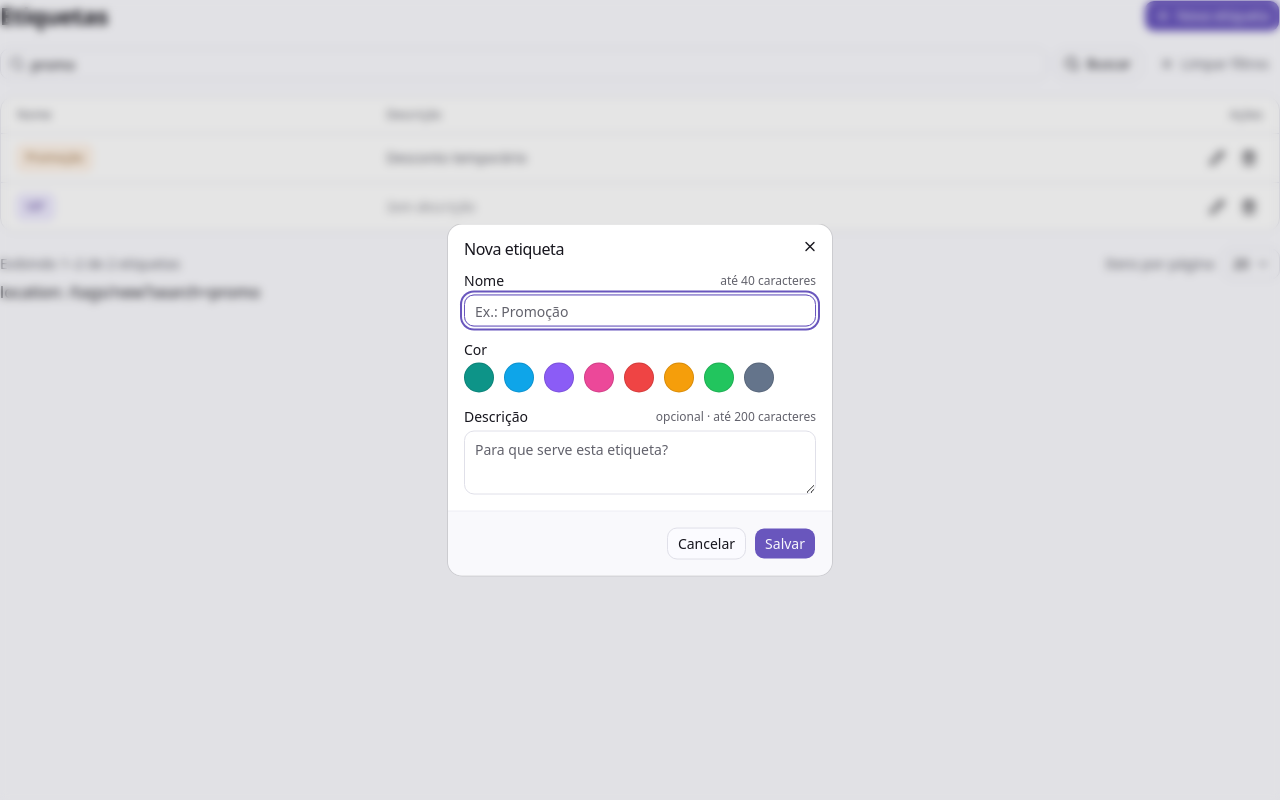
Scenario: TagFormPage › closing and browser history › closes a deep-linked dialog to /tags, leaving behind the search its address carried
Expected: the heading "Nova etiqueta" is shown, x1=464 y1=238 x2=564 y2=260
Click the button "Cancelar" at (706, 544), box x1=667 y1=528 x2=746 y2=560
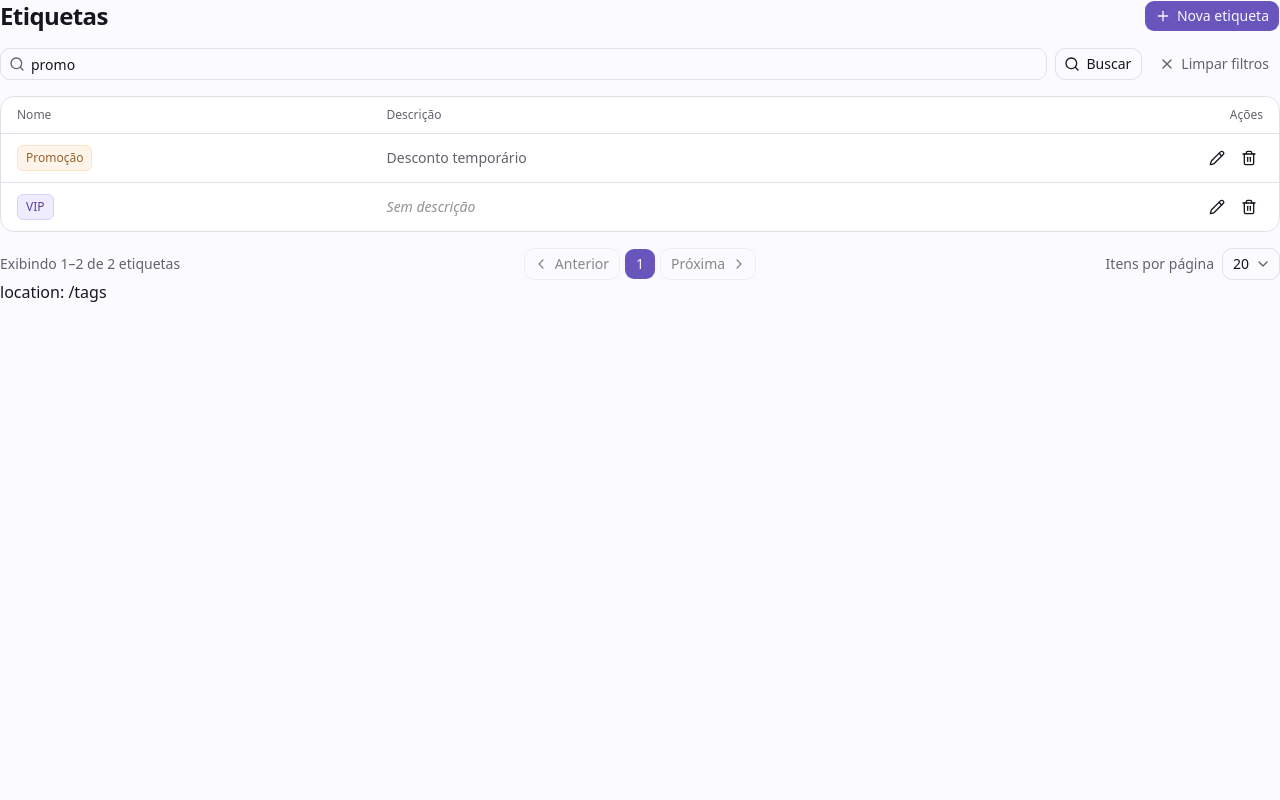
Expected: the text with test id "location" reads "location: /tags", x1=0 y1=281 x2=107 y2=303
